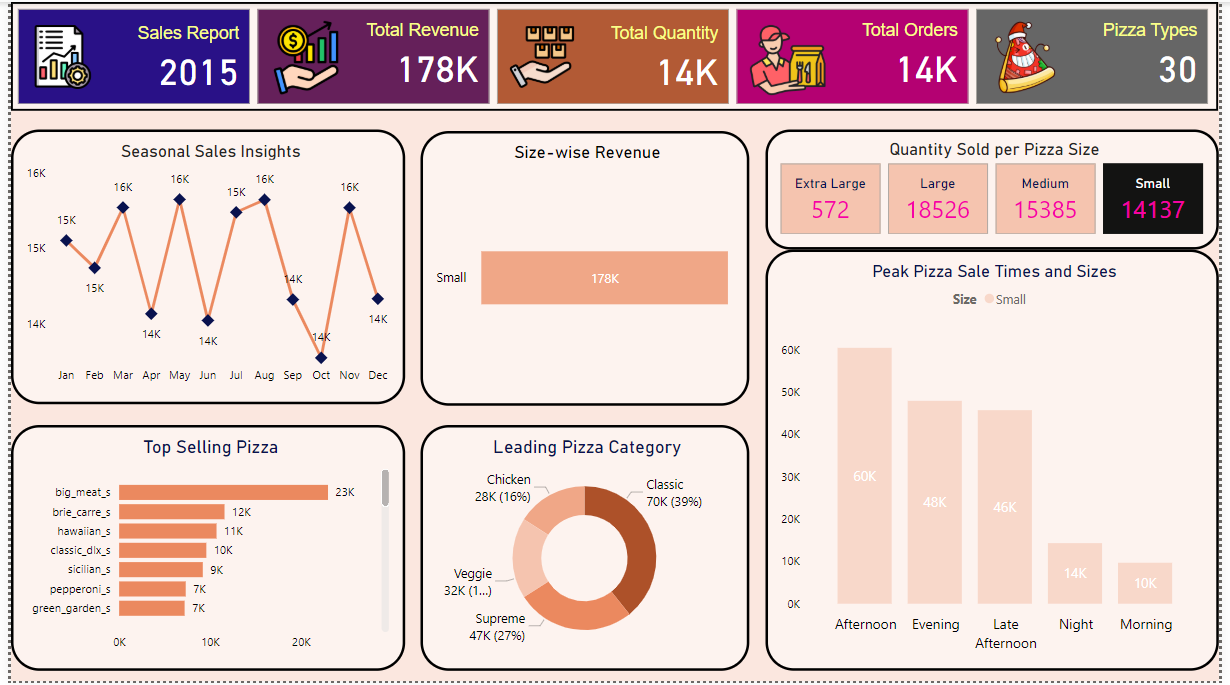

What the dashboard file says about the page in this screenshot:
{"tool":"powerbi","page":{"name":"Pizza Dashboard","canvas":[1280,720],"ordinal":0},"visuals":[{"type":"donutChart","title":"Leading Pizza Category","fields":{"Y":["Sum(order_details.Sales cost)"],"Category":["order_details.Category"]},"box":[440.6,448.6,332.4,260.9],"z":0},{"type":"clusteredBarChart","title":"Top Selling Pizza","fields":{"Y":["Sum(order_details.Sales cost)"],"Category":["order_details.pizza_id"]},"box":[12.7,448.6,418.3,260.9],"z":1000},{"type":"columnChart","title":"Peak Pizza Sales Times and Sizes","fields":{"Category":["order_details.TimeCategory"],"Series":["order_details.Size"],"Y":["Sum(order_details.Revenue Collection)"]},"box":[786.2,261,479.8,448.6],"z":2000},{"type":"cardVisual","fields":{"Data":["Measures (2).Sales Report","Measures (2).Total Revenue","Measures (2).Total Quantity","Measures (2).Total Orders","Measures (2).Pizza Types"]},"box":[0,0,1280.1,115.7],"z":3000},{"type":"advancedSlicerVisual","title":"Quantity Sold per Pizza Size","fields":{"Values":["order_details.Size"]},"box":[786.2,128.2,479.8,125],"z":4000},{"type":"lineChart","title":"Seasonal Sales Insights","fields":{"Category":["order_details.Monthno"],"Y":["Sum(order_details.Revenue Collection)"]},"box":[12.7,128.8,418.3,308.6],"z":5000},{"type":"funnel","title":"Size-wise Revenue","fields":{"Y":["Sum(order_details.Revenue Collection)"],"Category":["order_details.Size"]},"box":[440.6,128.8,332.4,308.6],"z":6000}]}

Visuals, with their boxes in screenshot pixels (x1, y1, x2, y2), scaled from the page's 1280x720 canvas onto the 1230x685 screenshot:
"Leading Pizza Category" donutChart: 423:427:743:675
"Top Selling Pizza" clusteredBarChart: 12:427:414:675
"Peak Pizza Sales Times and Sizes" columnChart: 755:248:1217:675
cardVisual - Measures (2).Sales Report x Measures (2).Total Revenue: 0:0:1229:110
"Quantity Sold per Pizza Size" advancedSlicerVisual: 755:122:1217:241
"Seasonal Sales Insights" lineChart: 12:123:414:416
"Size-wise Revenue" funnel: 423:123:743:416
